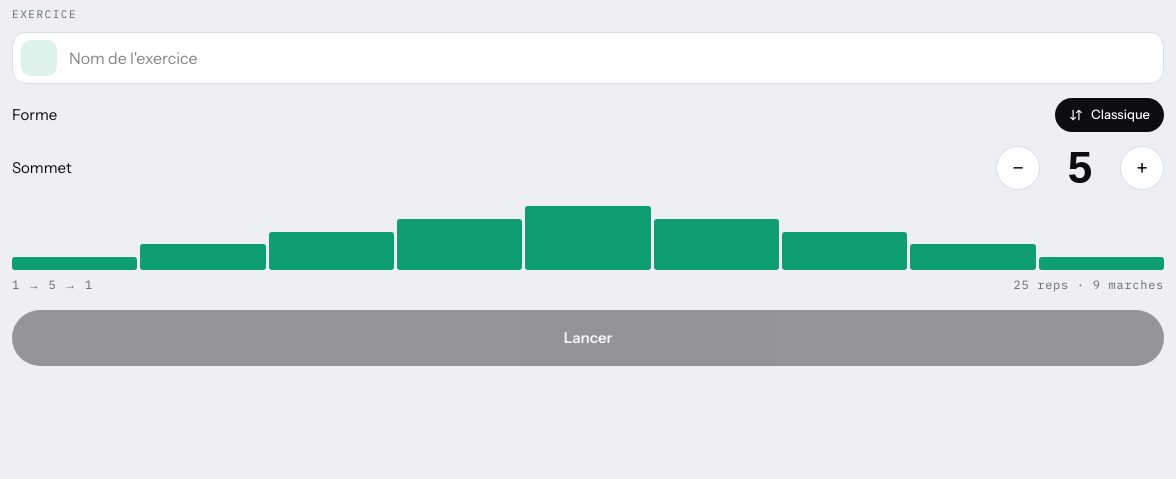
PyramidLauncher › fills the name when a suggestion is chosen, and closes the list
In the dropdown with placeholder "Nom de l'exercice": coordinates (612, 58) [69,33,1155,83], type "pul"
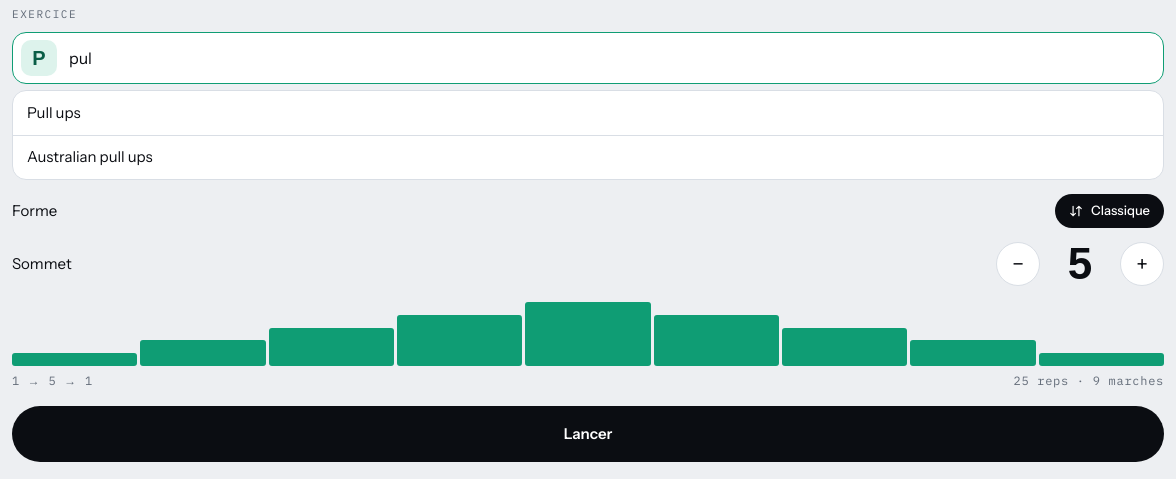
Click the option "Pull ups": coordinates (54, 112) [13,91,1163,135]
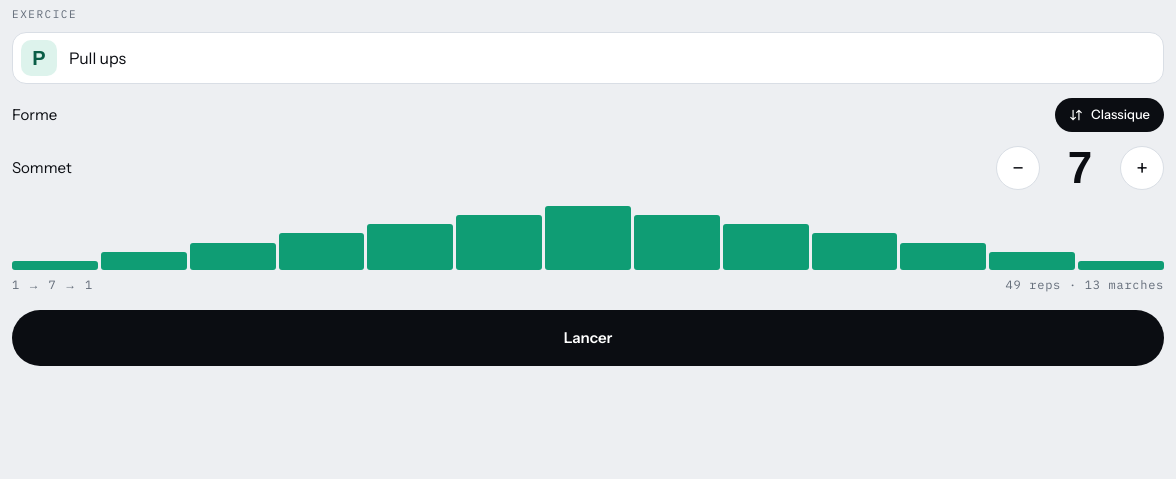
Check: the dropdown with placeholder "Nom de l'exercice" holds "Pull ups", box [69,33,1155,83]
Check: no options are shown
Check: the text "49 reps · 13 marches" is shown, box [1006,276,1164,294]
